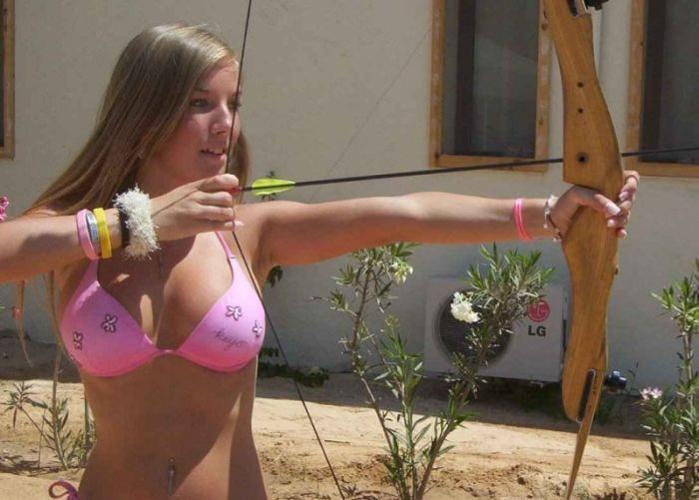person: (3, 26, 642, 500)
